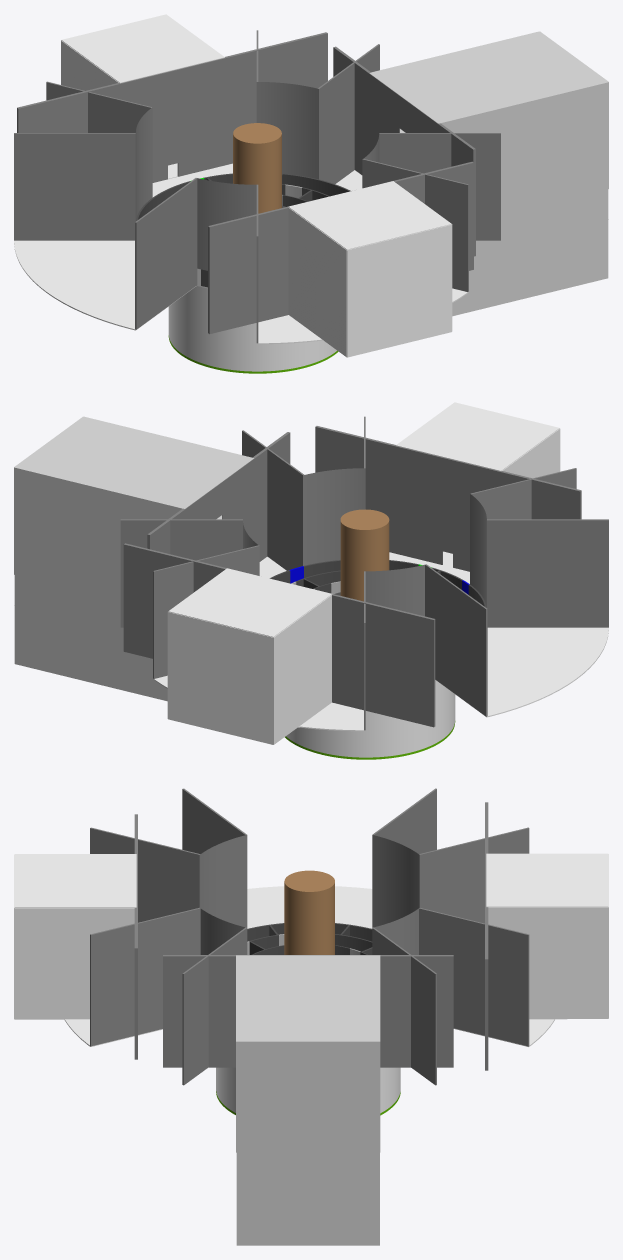
Rendered from 天空之城 Interior-Level_2.fbx.
3 renders of one model, top to bottom at view 1: azimuth 30°, elevation 25°; view 2: azimuth 150°, elevation 25°; view 3: azimuth 270°, elevation 25°, orthographic. The views are drawn at different scales.
Visible parts, largest first — view 1: Group56, Group6, Group5, Group35, Group3, Group63, Group53, Group33, Group124, Group54, Group36, Group30 (+17 smaller); view 2: Group54, Group8, Group5, Group128, Group123, Group3, Group63, Group34, Group53, Group129, Group56, Group126 (+16 smaller); view 3: Group7, Group3, Group5, Group127, Group55, Group61, Group38, Group53, Group126, Group37, Group25, Group26 (+14 smaller).
Boxes of the visible parts, box(x1,y1,x2,y2) form: Group56: box(14, 133, 135, 240); Group6: box(439, 82, 608, 215); Group5: box(369, 31, 607, 123); Group35: box(347, 224, 452, 357); Group3: box(452, 189, 608, 316); Group63: box(14, 163, 468, 344); Group53: box(135, 82, 379, 285); Group33: box(208, 206, 288, 334); Group124: box(120, 58, 225, 182); Group54: box(135, 178, 197, 329); Group36: box(288, 207, 346, 357); Group30: box(168, 286, 336, 371); Group54: box(487, 519, 608, 627); Group8: box(14, 467, 184, 600); Group5: box(15, 417, 253, 508); Group128: box(168, 612, 273, 744); Group123: box(332, 594, 435, 727); Group3: box(14, 575, 167, 701); Group63: box(153, 552, 608, 731); Group34: box(395, 446, 500, 571); Group53: box(243, 468, 486, 616); Group129: box(273, 595, 331, 744); Group56: box(425, 564, 487, 716); Group126: box(168, 568, 332, 637); Group7: box(236, 1041, 379, 1152); Group3: box(236, 1153, 379, 1245); Group5: box(236, 955, 379, 1041); Group127: box(488, 907, 608, 1018); Group55: box(419, 908, 529, 1046); Group61: box(90, 907, 200, 1046); Group38: box(14, 908, 134, 1019); Group53: box(200, 835, 419, 954); Group126: box(486, 853, 608, 907); Group37: box(14, 854, 136, 907); Group25: box(380, 955, 453, 1067); Group26: box(163, 955, 236, 1067).
Size of the model in its own units: 10001 by 3684 by 9403.
